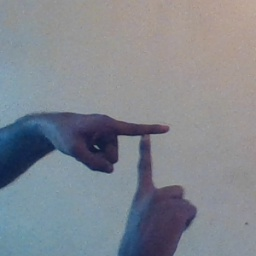T: (85, 99, 198, 208)
